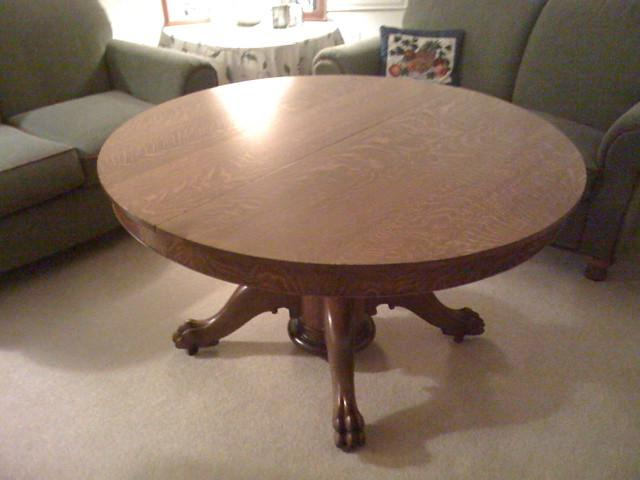table: (96, 72, 588, 452), (160, 16, 345, 84)
